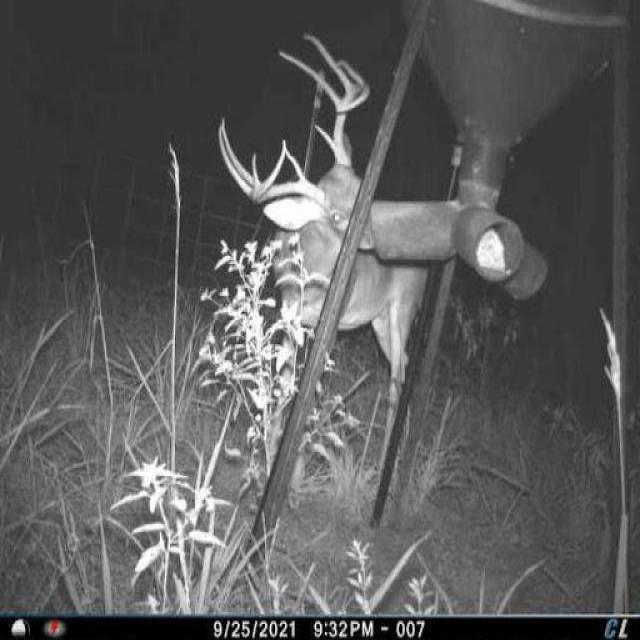deer: (208, 22, 456, 489)
